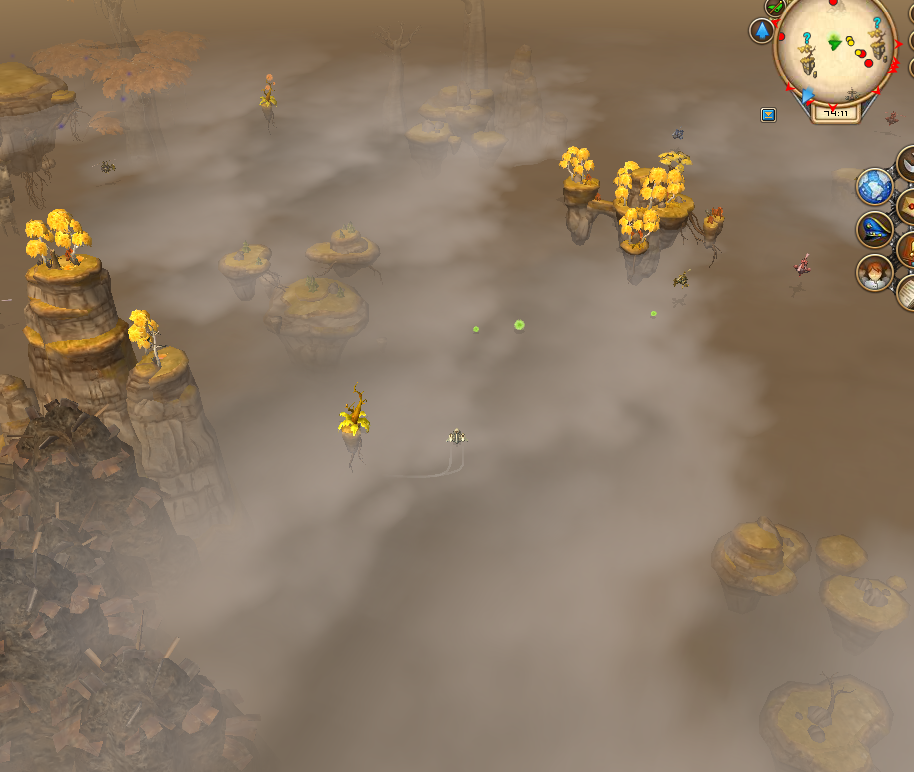dandelion-empty: (334, 385, 371, 456)
dandelion-full: (252, 68, 283, 128)
fluff: (511, 314, 526, 333), (470, 322, 482, 336), (649, 306, 659, 320)
